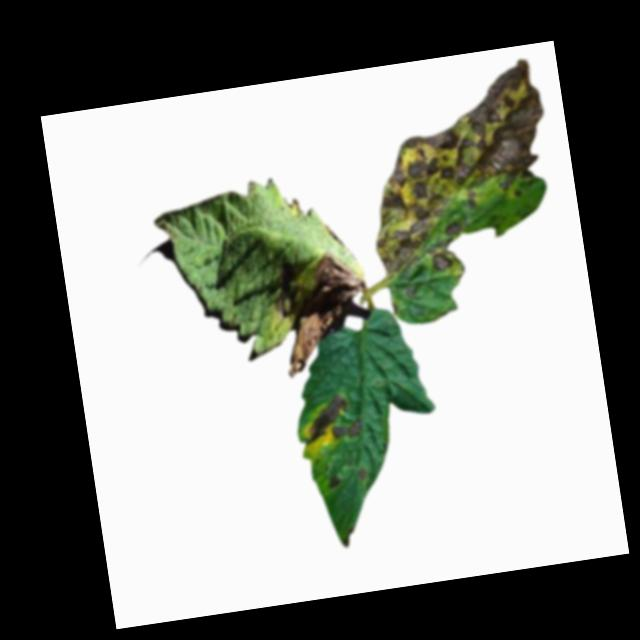Early_blight: (350, 55, 565, 283), (273, 246, 377, 380), (299, 392, 356, 445), (331, 418, 366, 442), (358, 467, 368, 481)
